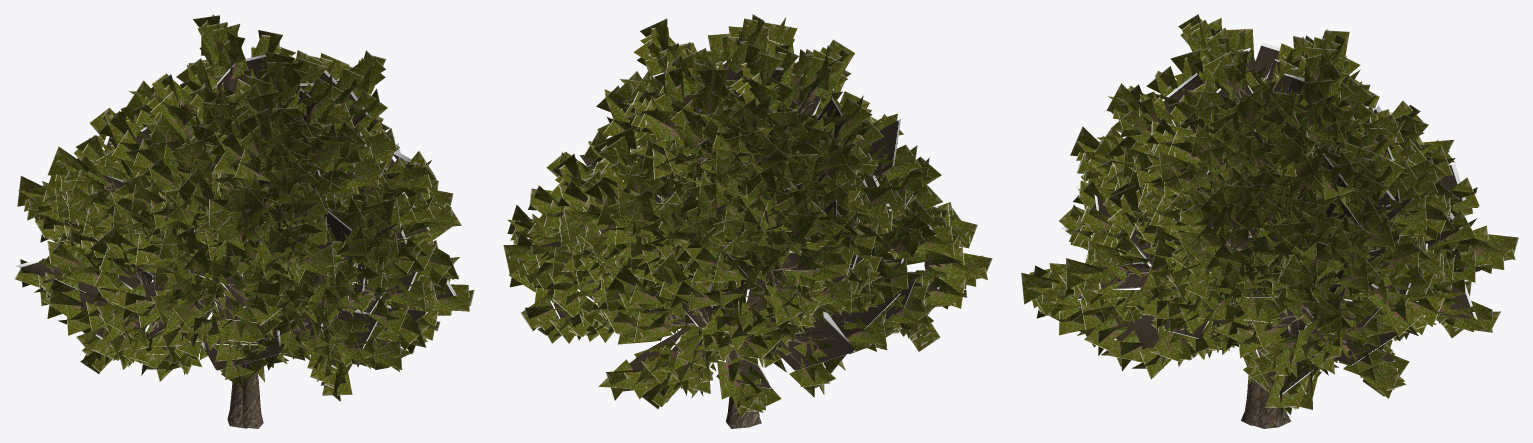
The model's file is tree.fbx.
The picture shows the model from 3 angles, left to right: view 1: azimuth 30°, elevation 25°; view 2: azimuth 150°, elevation 25°; view 3: azimuth 270°, elevation 25°; orthographic projection. The views are drawn at different scales.
Parts seen in each view (by area): view 1: Mesh, Mesh1, Sketchfab_2022_09_21_06_15_37:Mesh; view 2: Mesh, Mesh1, Sketchfab_2022_09_21_06_15_37:Mesh; view 3: Mesh, Mesh1, Sketchfab_2022_09_21_06_15_37:Mesh.
Part boxes in pixels (box(x1,y1,x2,y2)): Mesh: box(14, 75, 474, 428); Mesh1: box(38, 14, 453, 381); Sketchfab_2022_09_21_06_15_37:Mesh: box(112, 127, 388, 428); Mesh: box(503, 78, 992, 428); Mesh1: box(551, 14, 947, 371); Sketchfab_2022_09_21_06_15_37:Mesh: box(662, 133, 882, 415); Mesh: box(1021, 84, 1518, 428); Mesh1: box(1070, 14, 1470, 386); Sketchfab_2022_09_21_06_15_37:Mesh: box(1135, 78, 1353, 425).
Size of the model in its own units: 1239 by 1115 by 1279.
